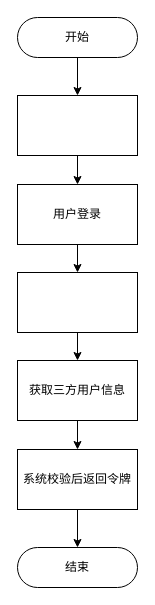
This 155x605 diagram has some shape labels left out. Each missing label, with the box of its shape:
保存不同的三方配置: (16, 94, 138, 156)
根据登录平台读取不同的请求 客户端: (16, 272, 138, 332)
